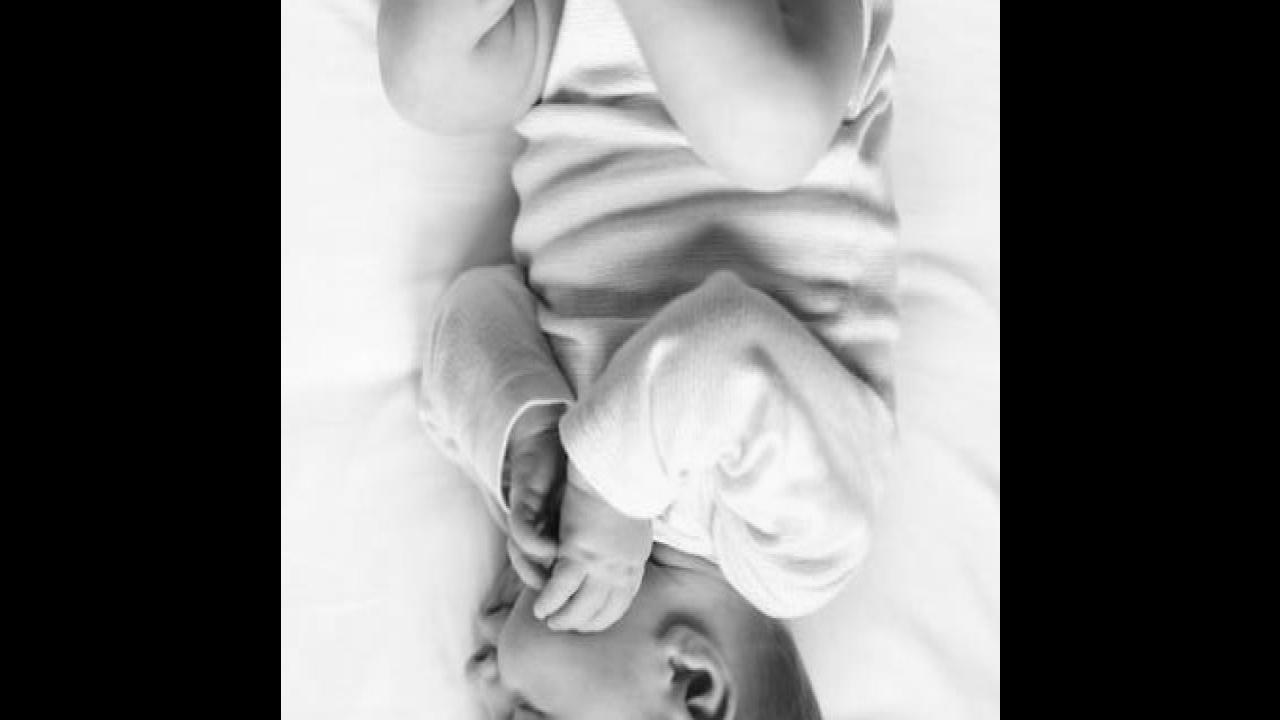hand: (539, 516, 657, 640), (498, 457, 568, 585)
